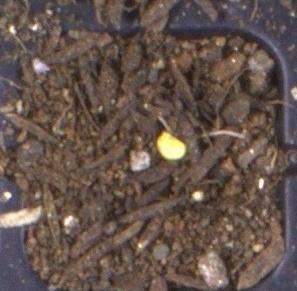chilli seed: (156, 130, 186, 161)
